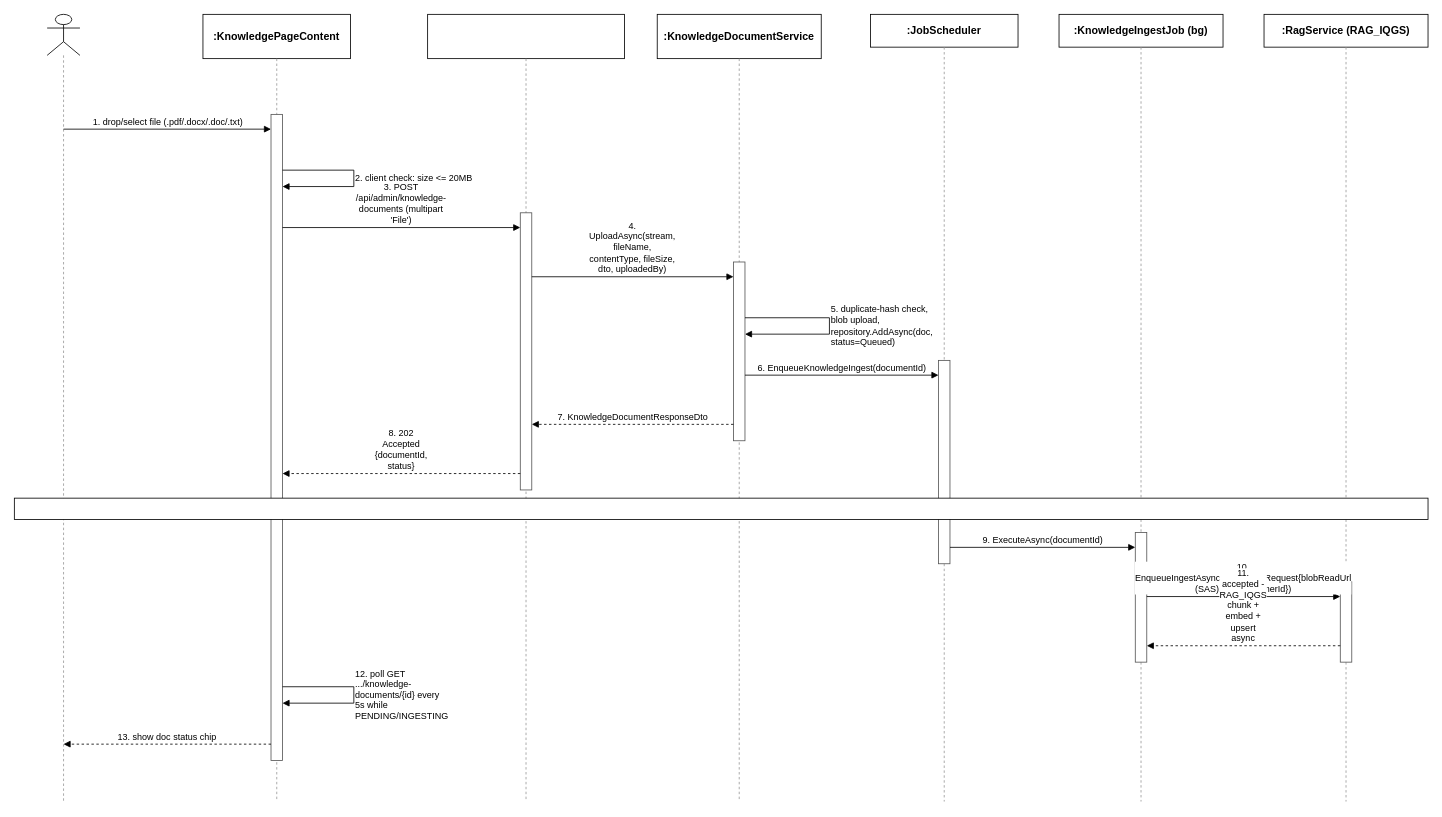
The diagram is 1442 pixels wide and 817 high, and some of its shapes have lost their labels. Here are the shapes that lost their labels. From the top down, the box of each, then its label:
(46, 14, 80, 55): Administrator
(427, 14, 624, 59): :AdminKnowledgeDocumentsController
(14, 497, 1428, 519): Background - Hangfire queue 'knowledge-ingestion' (after the HTTP response)
